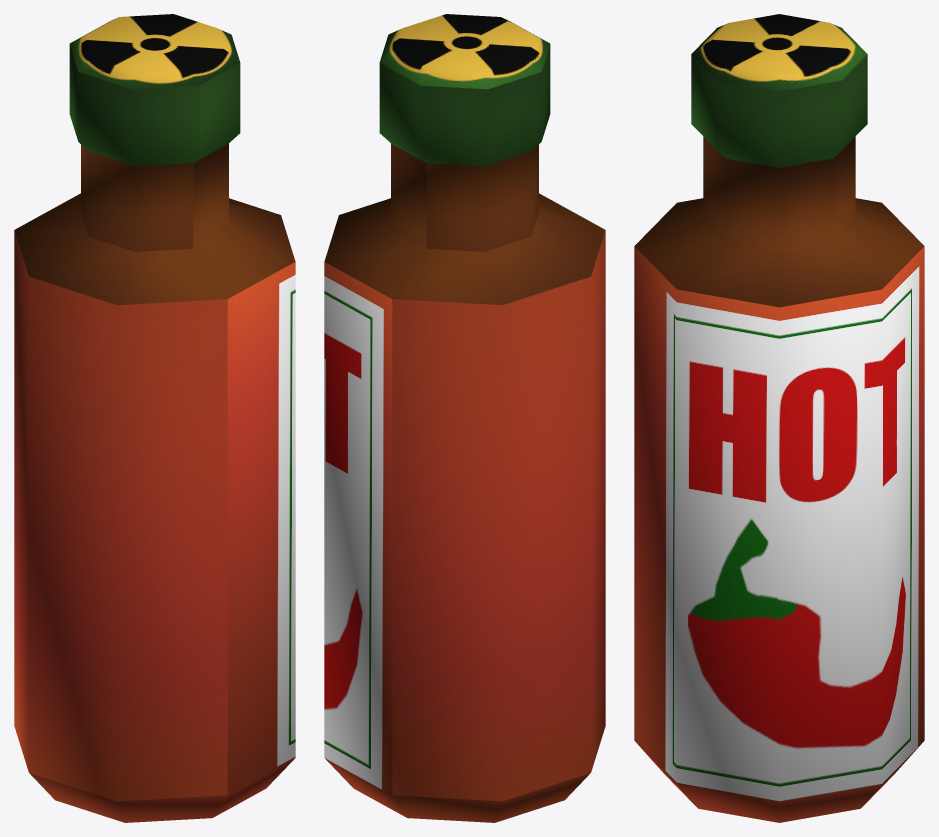
Rendered from Boteille2.obj.
3 views of the same model, side by side, from view 1: azimuth 30°, elevation 25°; view 2: azimuth 150°, elevation 25°; view 3: azimuth 270°, elevation 25° (orthographic).
Parts seen in each view (by area): view 1: Cylinder; view 2: Cylinder; view 3: Cylinder.
Boxes of the visible parts, bbox=[...] form: Cylinder: bbox=[14, 14, 295, 822]; Cylinder: bbox=[324, 14, 605, 822]; Cylinder: bbox=[634, 14, 924, 822].
Bounding box in the file's own units: 2 × 5.55 × 2.
